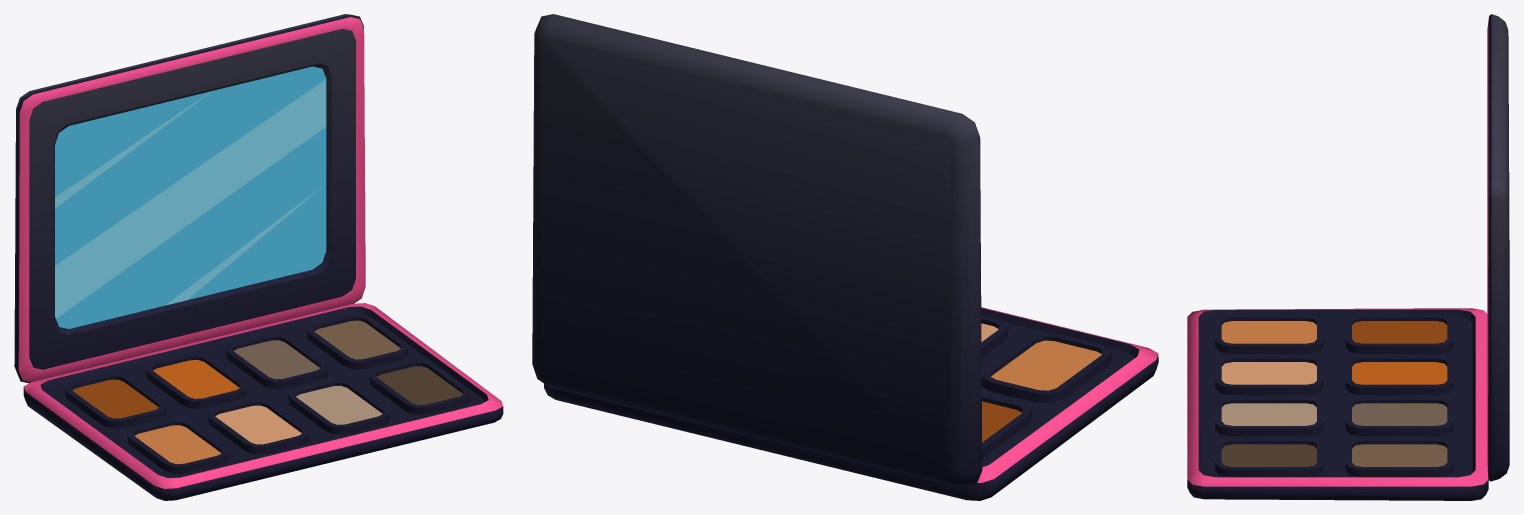
The model's file is Eyeshadow_Palette_03.fbx.
The picture shows the model from 3 angles, left to right: view 1: azimuth 30°, elevation 25°; view 2: azimuth 150°, elevation 25°; view 3: azimuth 270°, elevation 25°; orthographic projection. The views are drawn at different scales.
Parts seen in each view (by area): view 1: Eyeshadow_Palette_03; view 2: Eyeshadow_Palette_03; view 3: Eyeshadow_Palette_03.
Part boxes in pixels (x1,y1,x2,y2): Eyeshadow_Palette_03: (14, 14, 503, 500); Eyeshadow_Palette_03: (532, 14, 1158, 500); Eyeshadow_Palette_03: (1187, 14, 1509, 500).
Size of the model in its own units: 0.161 by 0.1346 by 0.1231.
Materials: 1 (1 with a texture image).
